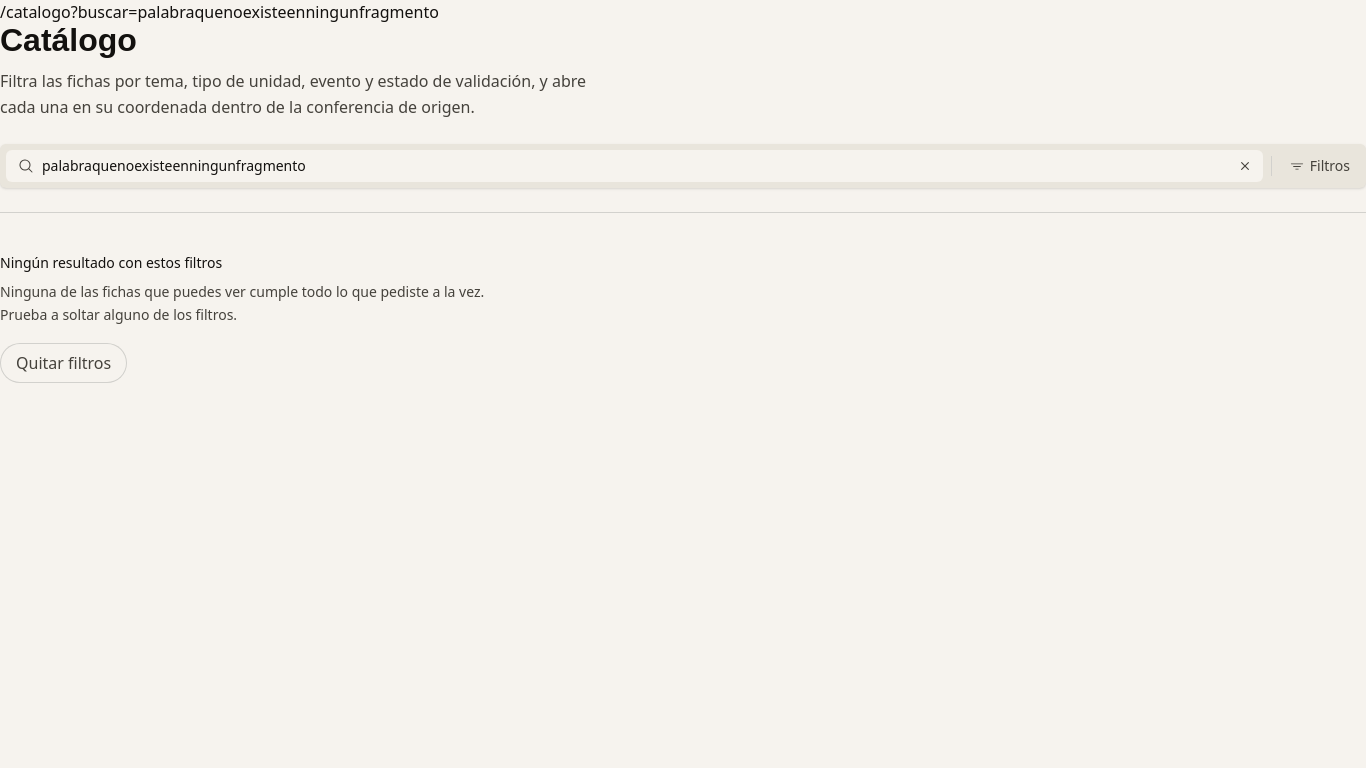
Scenario: PantallaCatalogo › restablece el catálogo completo al quitar los filtros
Click the button "Quitar filtros" at (64, 362), box [0, 342, 127, 382]
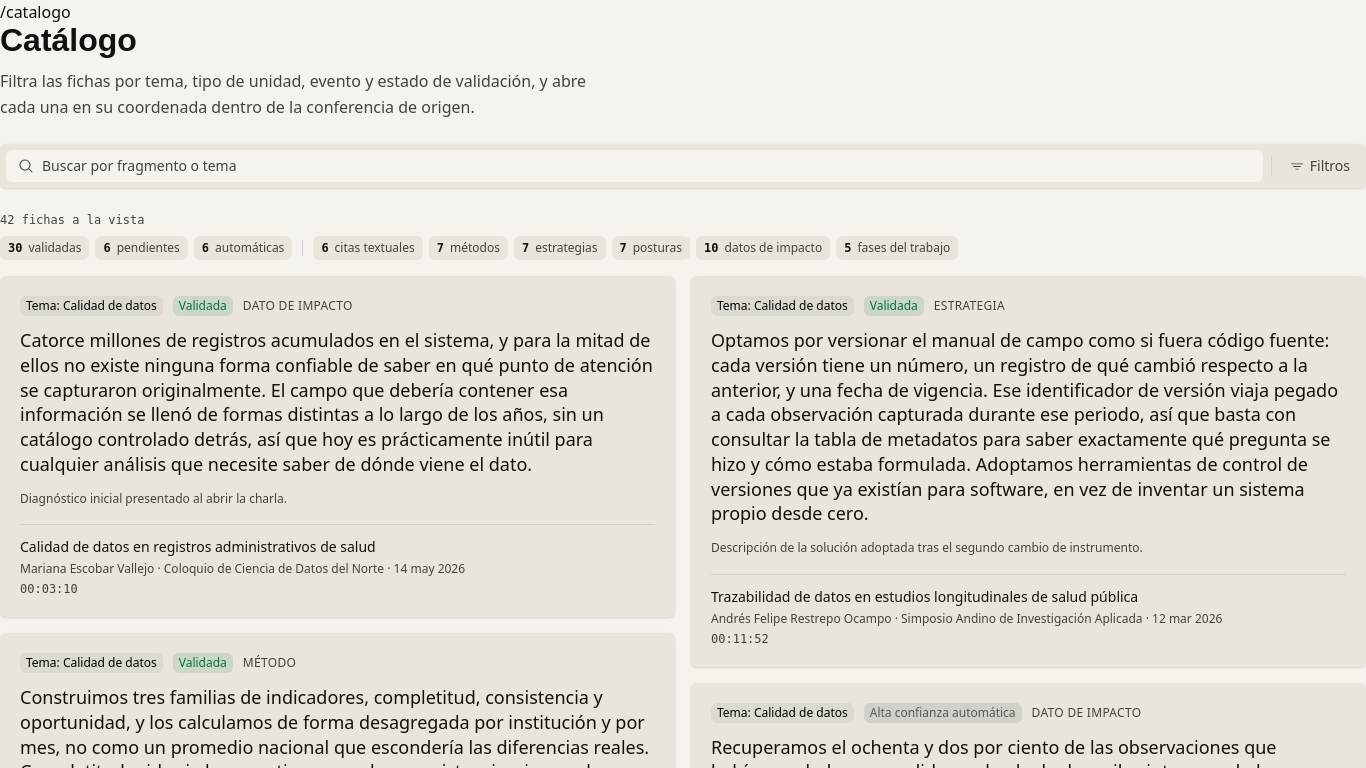
Expected: the text with test id "ubicacion" reads "/catalogo", [0, 1, 71, 23]
Now the number of list items is 42
